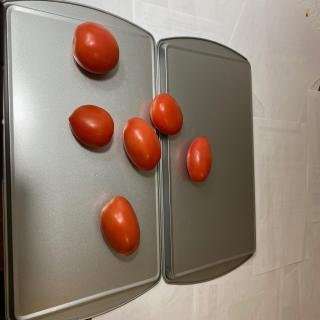Tomato: (72, 22, 119, 74), (100, 196, 140, 256), (123, 117, 161, 171), (69, 104, 114, 148), (149, 93, 183, 135), (186, 136, 212, 182)
